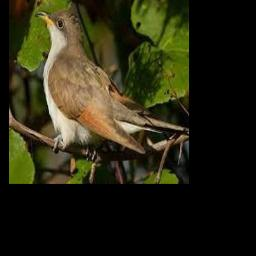Cuckoo: (35, 11, 161, 153)
